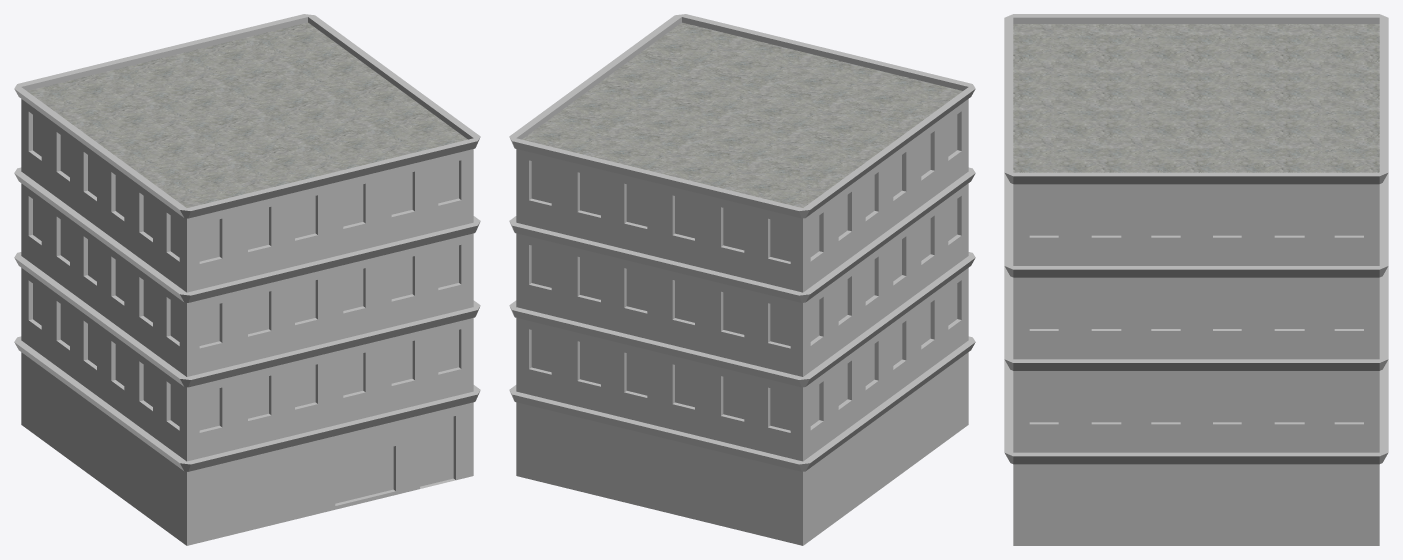
File: RV_Building_Type_B_00.fbx
The picture shows the model from 3 angles, left to right: view 1: azimuth 30°, elevation 25°; view 2: azimuth 150°, elevation 25°; view 3: azimuth 270°, elevation 25°; orthographic projection. The views are drawn at different scales.
Visible parts, largest first — view 1: RV_Building_Type_B_00; view 2: RV_Building_Type_B_00; view 3: RV_Building_Type_B_00.
Part boxes in pixels (x1=…): RV_Building_Type_B_00: x1=14, y1=14, x2=480, y2=545; RV_Building_Type_B_00: x1=509, y1=14, x2=975, y2=545; RV_Building_Type_B_00: x1=1004, y1=14, x2=1388, y2=545.
Size of the model in its own units: 1074 by 1152 by 1074.
